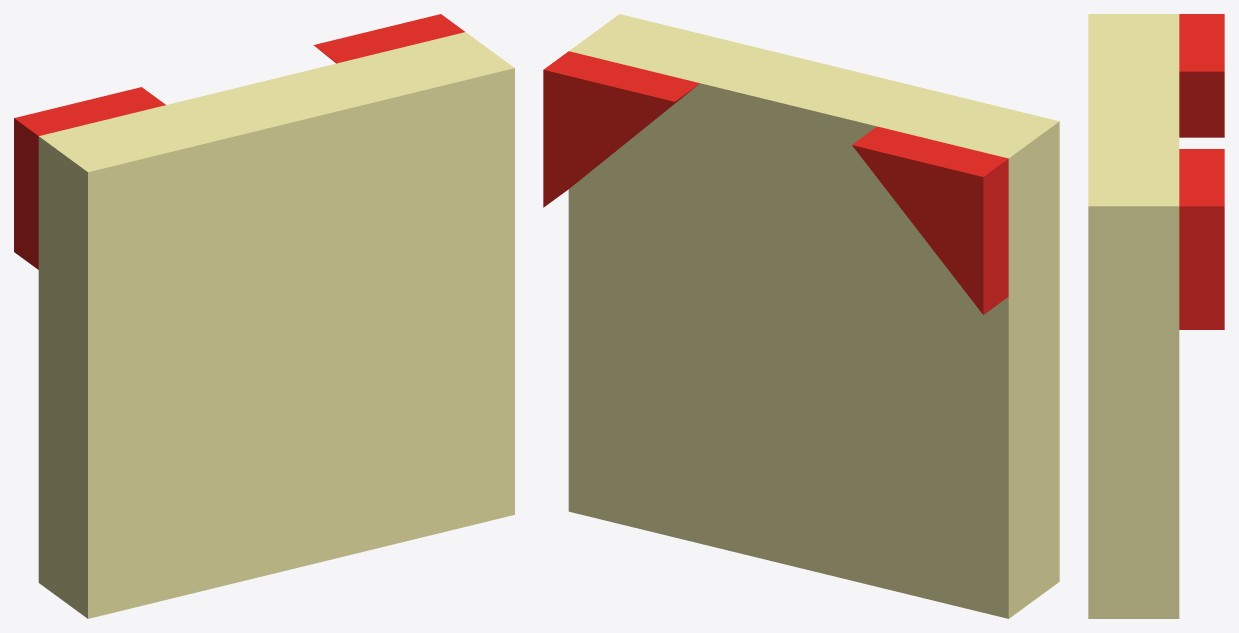
File: WallRoofTop.fbx
3 renders of one model, left to right at view 1: azimuth 30°, elevation 25°; view 2: azimuth 150°, elevation 25°; view 3: azimuth 270°, elevation 25°, orthographic. The views are drawn at different scales.
Parts seen in each view (by area): view 1: WallRoofTop; view 2: WallRoofTop; view 3: WallRoofTop.
Boxes of the visible parts, bbox=[...] form: WallRoofTop: bbox=[14, 14, 514, 618]; WallRoofTop: bbox=[543, 14, 1059, 618]; WallRoofTop: bbox=[1088, 14, 1224, 618].
Bounding box in the file's own units: 200 × 200 × 60.
